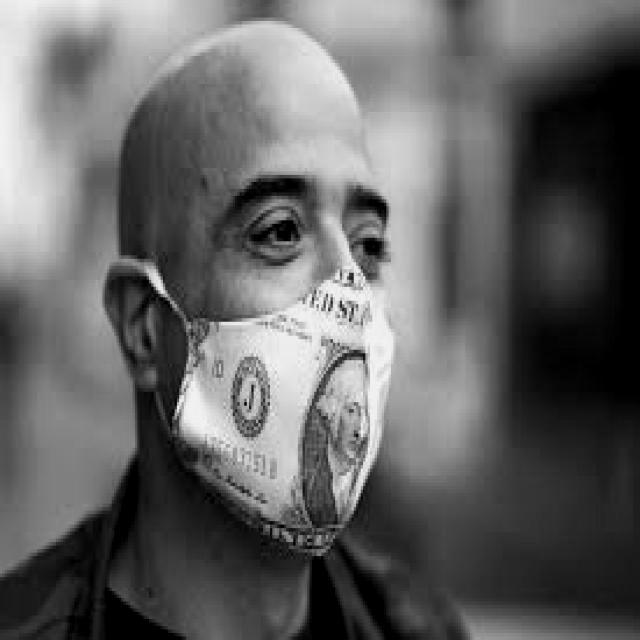fake: (159, 258, 399, 558)
real: (161, 59, 405, 563)
